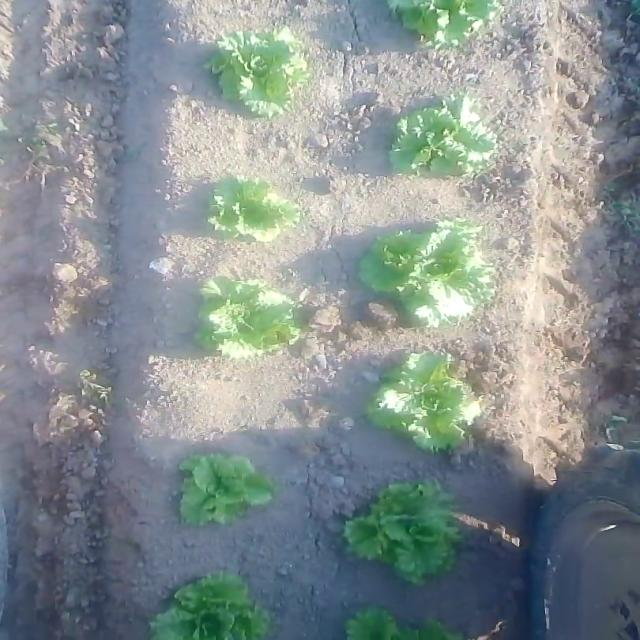Lettuce-Ready-to-Harvest: (360, 222, 497, 328), (344, 483, 461, 584), (370, 350, 481, 452), (204, 28, 315, 117), (193, 277, 303, 360), (391, 95, 494, 182), (177, 454, 273, 528), (208, 172, 302, 243)
